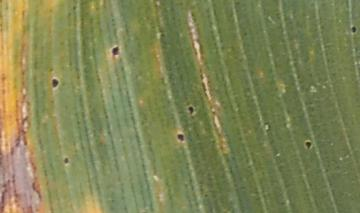tarspot: (48, 77, 60, 91), (110, 44, 120, 58), (186, 103, 194, 118), (175, 132, 185, 143), (304, 140, 312, 150), (350, 24, 357, 34), (62, 156, 69, 165)
